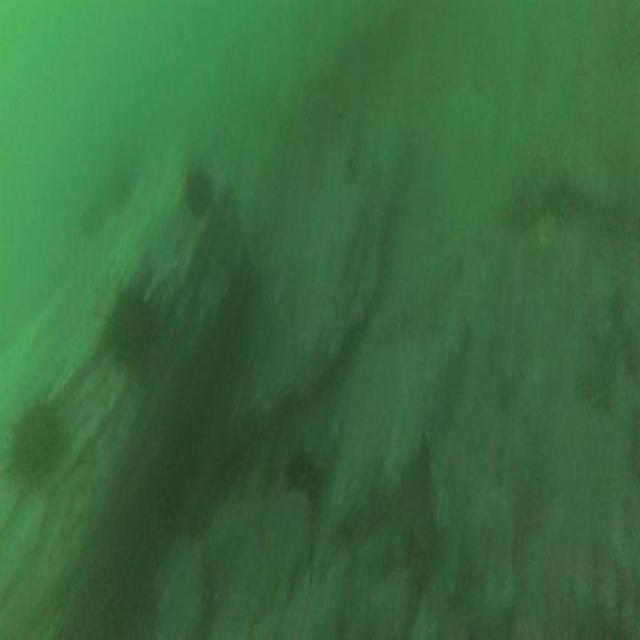echinus: (9, 403, 66, 491), (109, 283, 154, 378), (286, 441, 319, 502), (180, 168, 213, 221)
